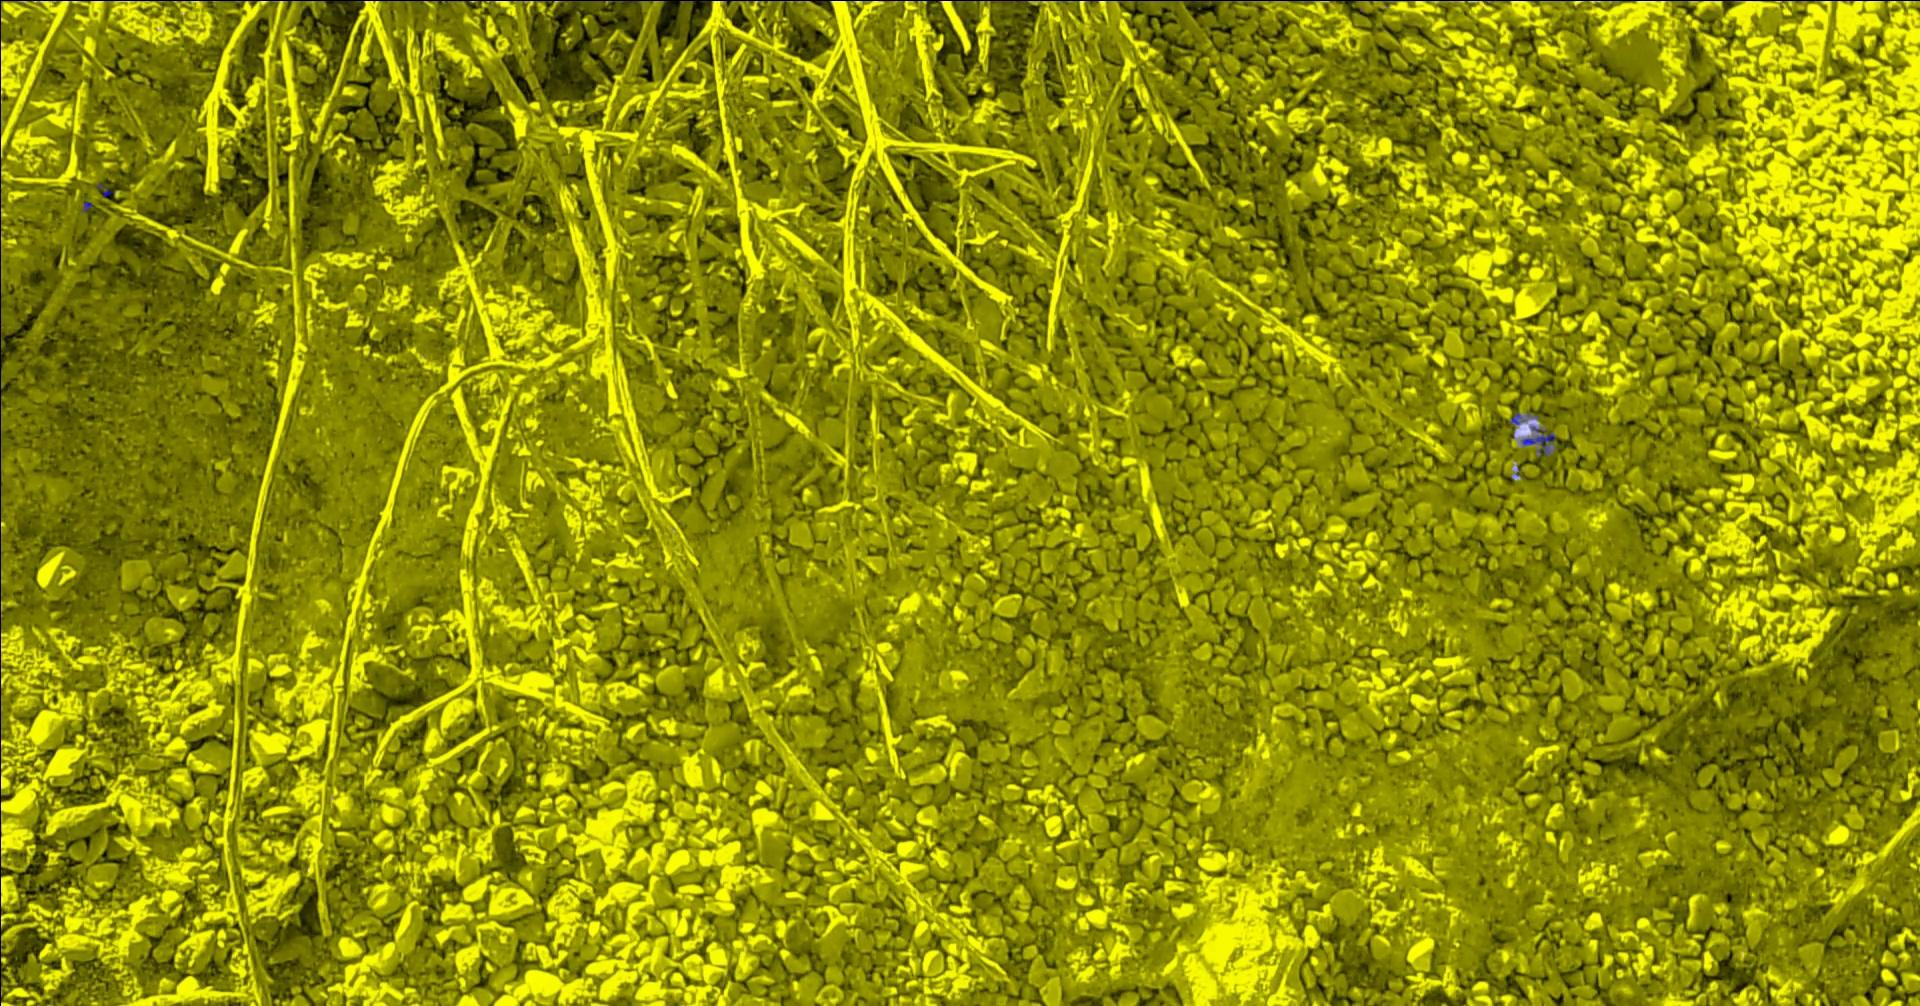ant: (1520, 426, 1556, 455), (1509, 412, 1524, 426)
